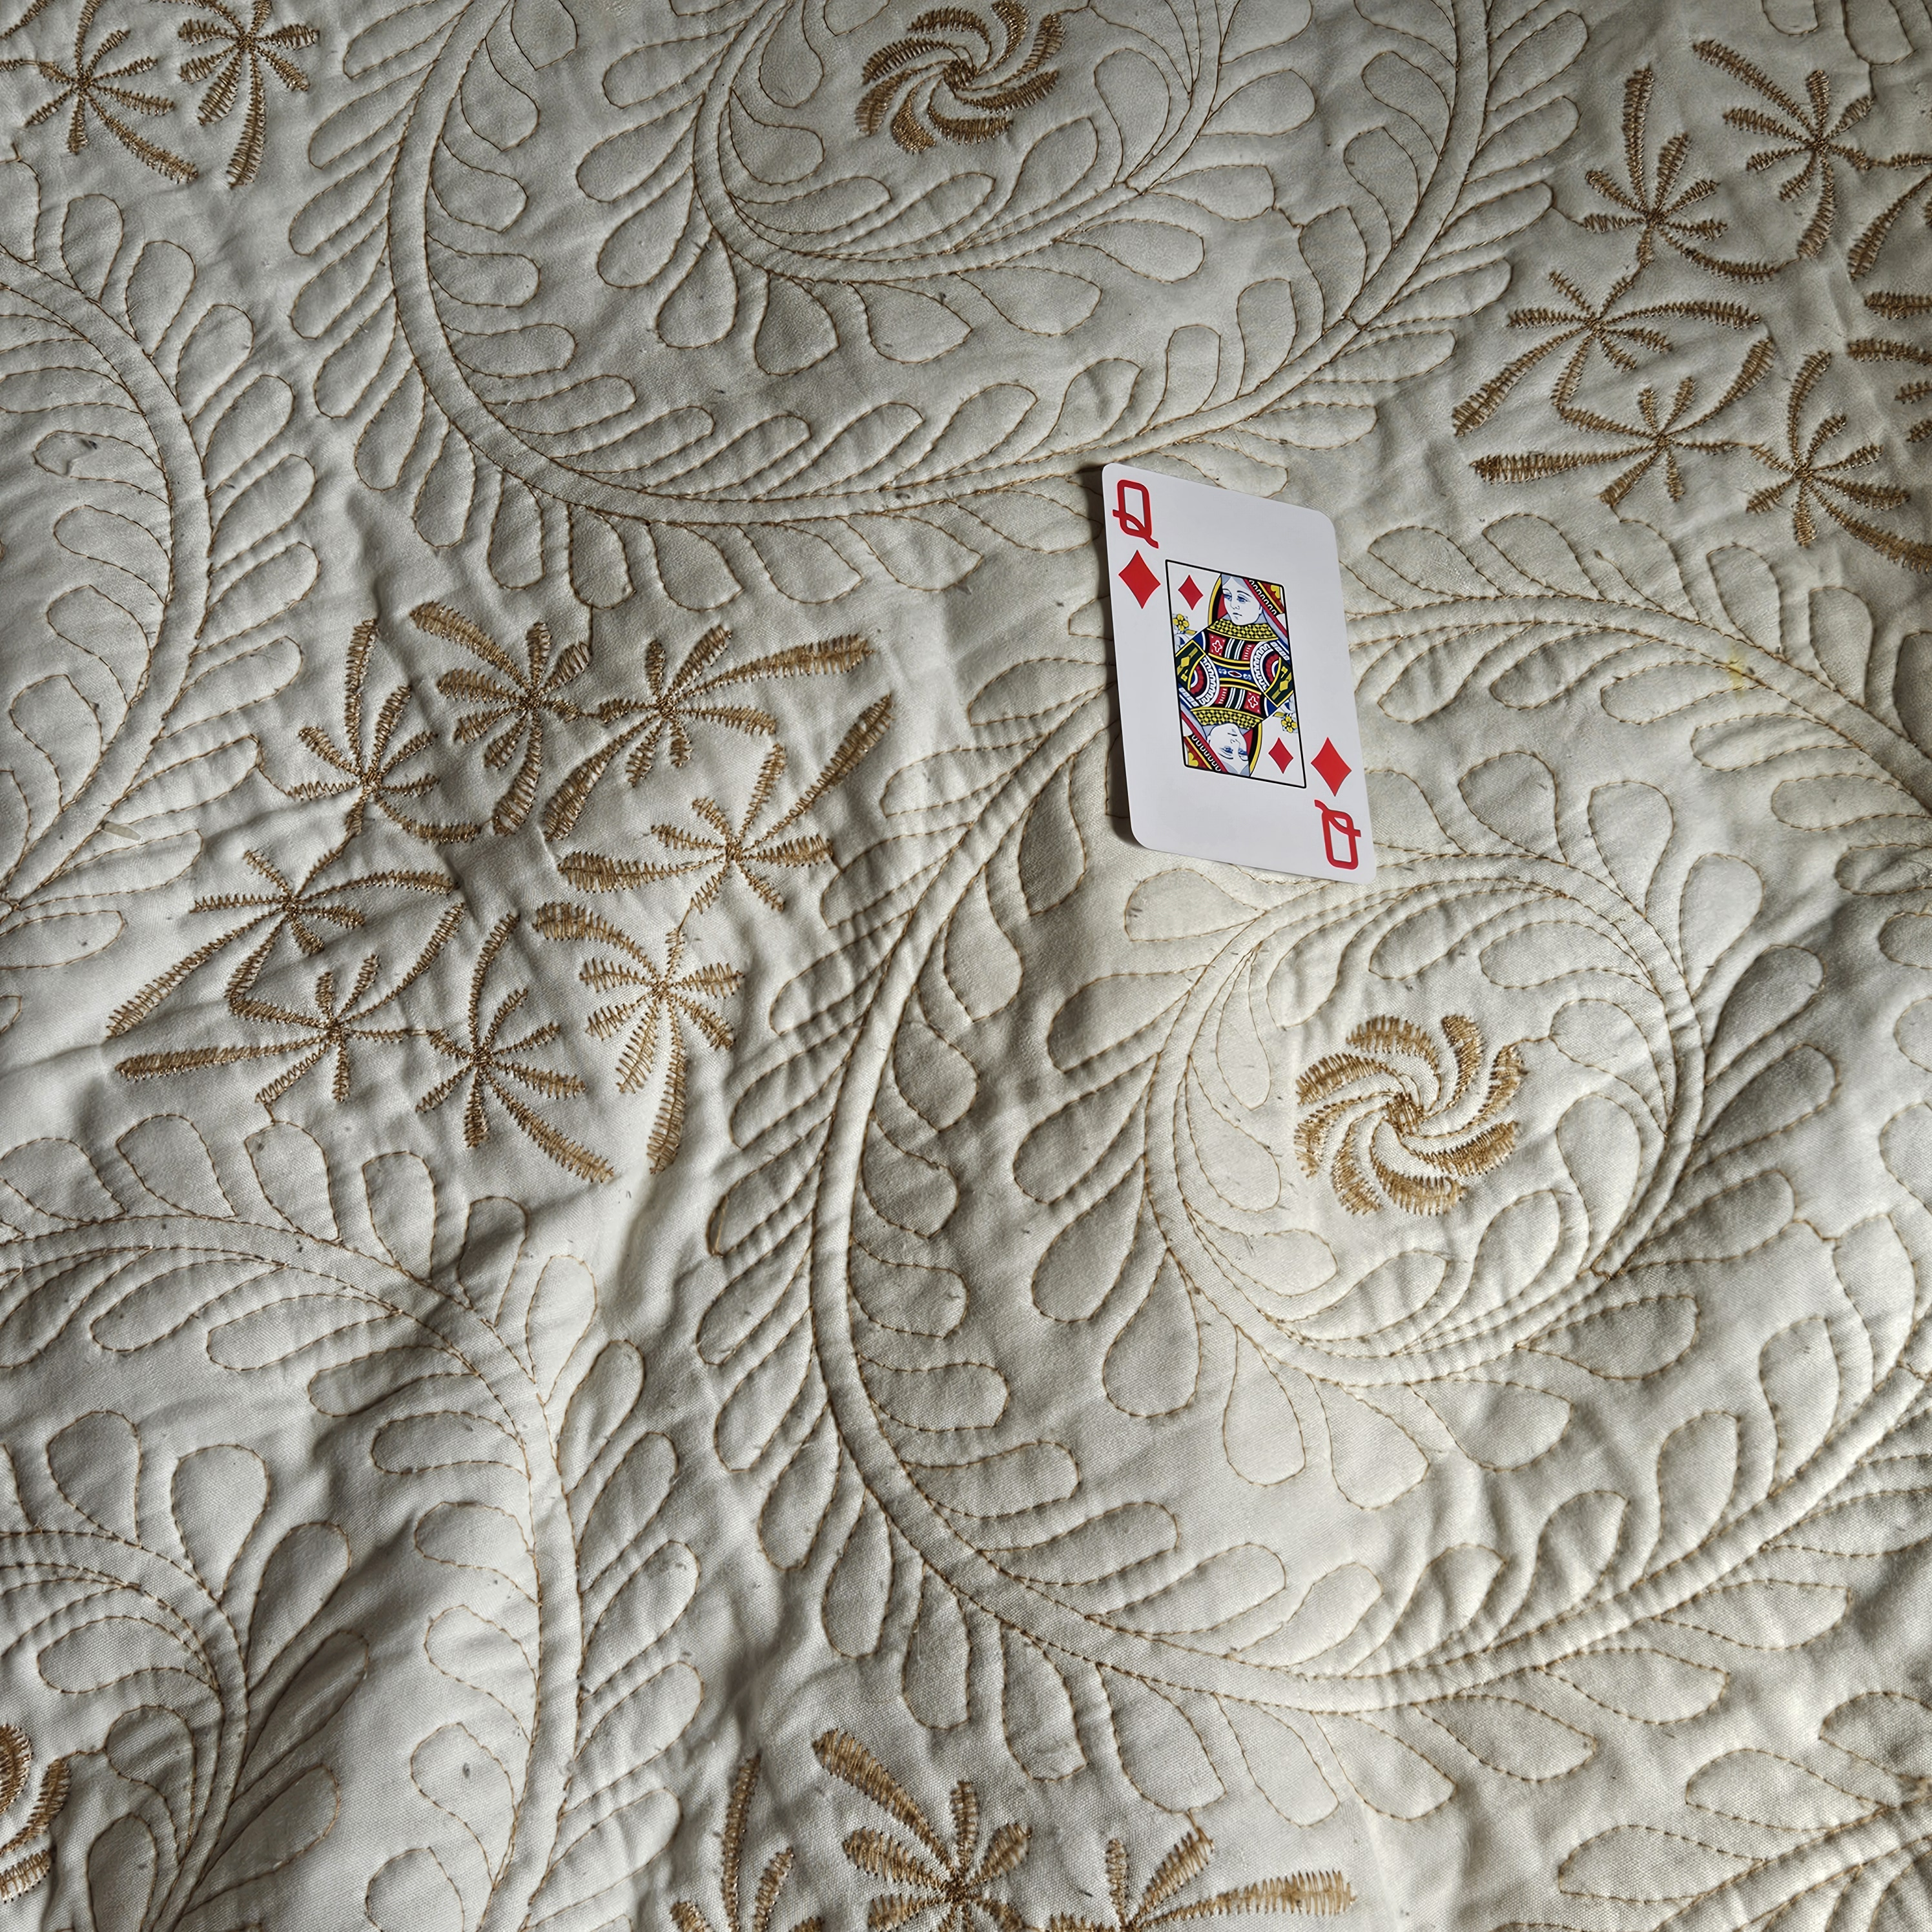QO: (1295, 722, 1375, 883), (1106, 469, 1173, 616)
